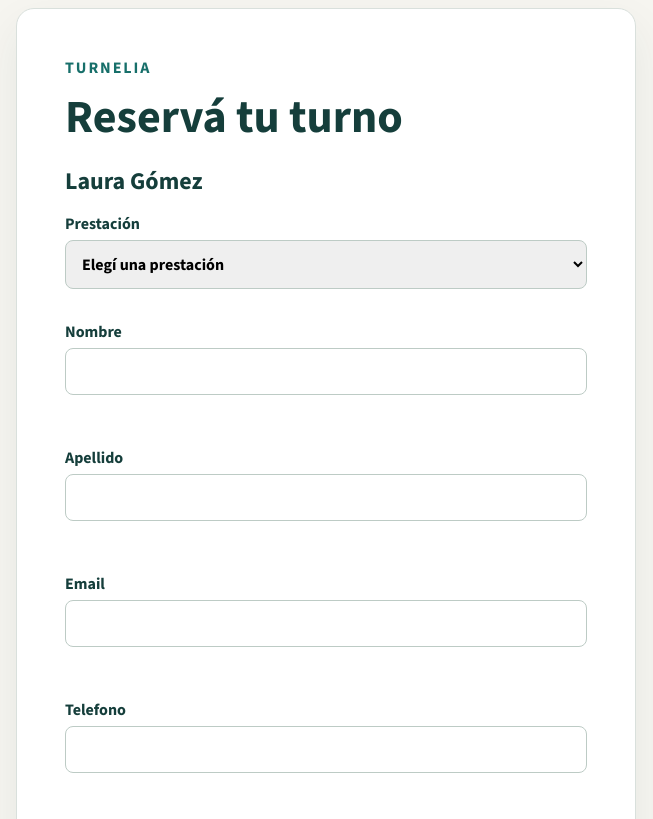
Scenario: PublicBooking › carga perfil/prestación, consulta disponibilidad y confirma sin persistir token
This screenshot has width=653, height=819.
Expected: the heading "Laura Gómez" is shown, [65, 165, 203, 197]
Select "Consulta · 30 min · presencial" in the dropdown labelled "Prestación". click: (326, 264)
box: [65, 240, 587, 289]
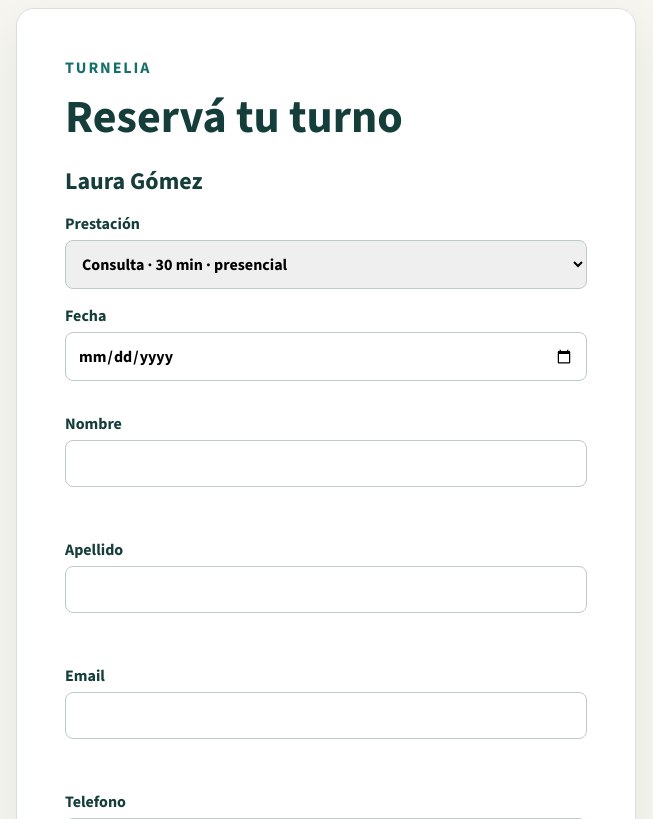
Type "2026-09-15" into the date field labelled "Fecha". click: (326, 356)
box: [65, 332, 587, 381]
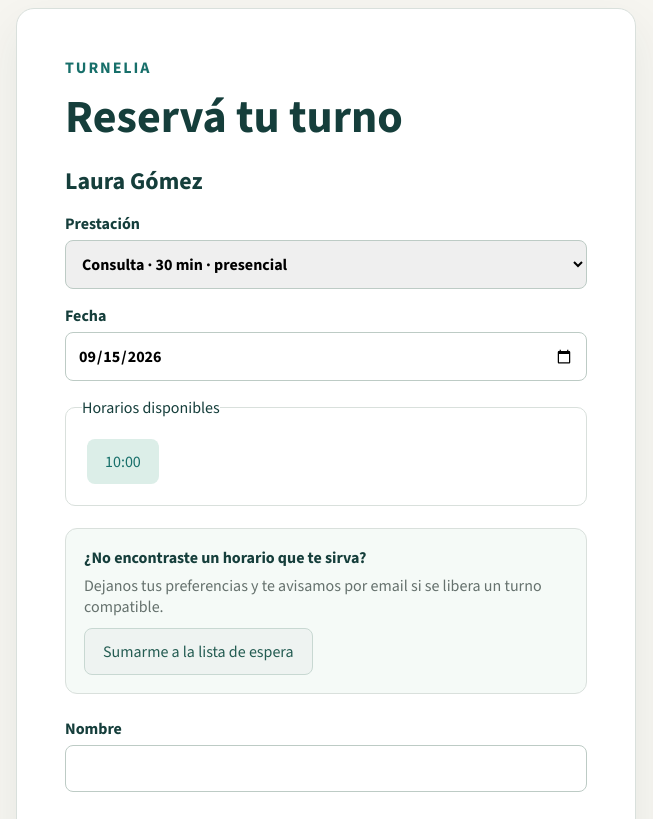
Now the button "10:00" is shown
Click the button "10:00". click: (123, 462)
box: [87, 439, 159, 484]
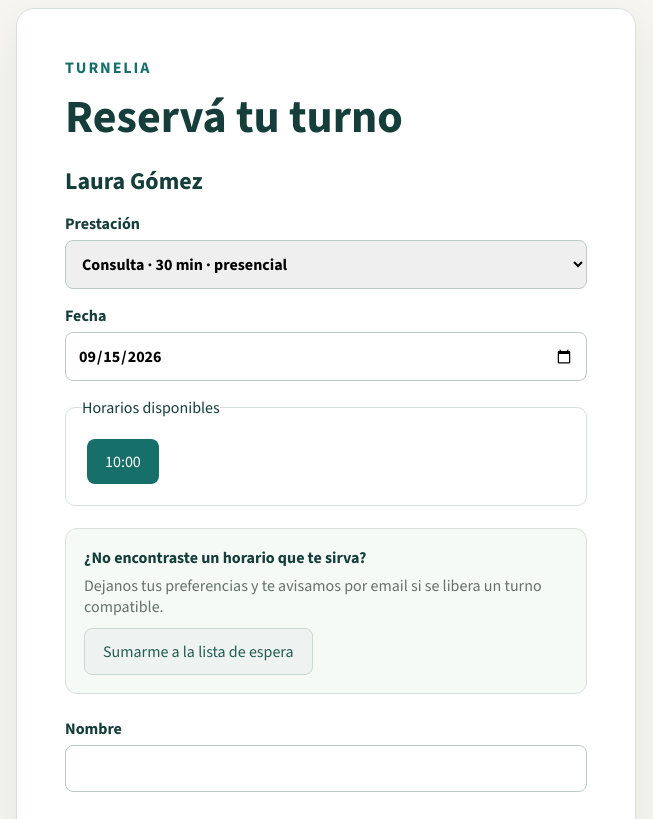
Type "Ana" into the field labelled "Nombre". click: (326, 768)
box: [65, 745, 587, 792]
(page scrolled)
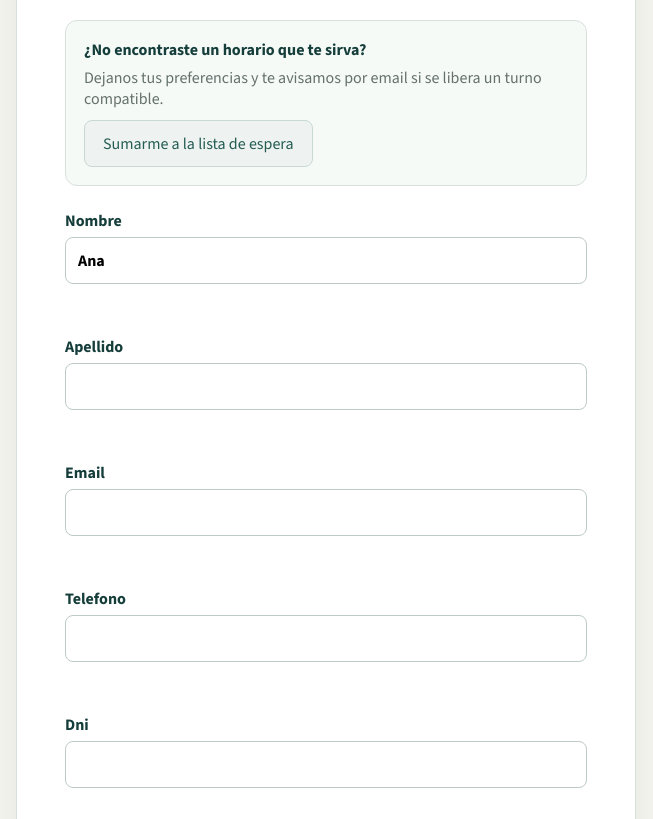
Type "Pérez" into the field labelled "Apellido". click: (326, 386)
box: [65, 363, 587, 410]
Type "ana@example.com" into the field labelled "Email". click: (326, 512)
box: [65, 489, 587, 536]
(page scrolled)
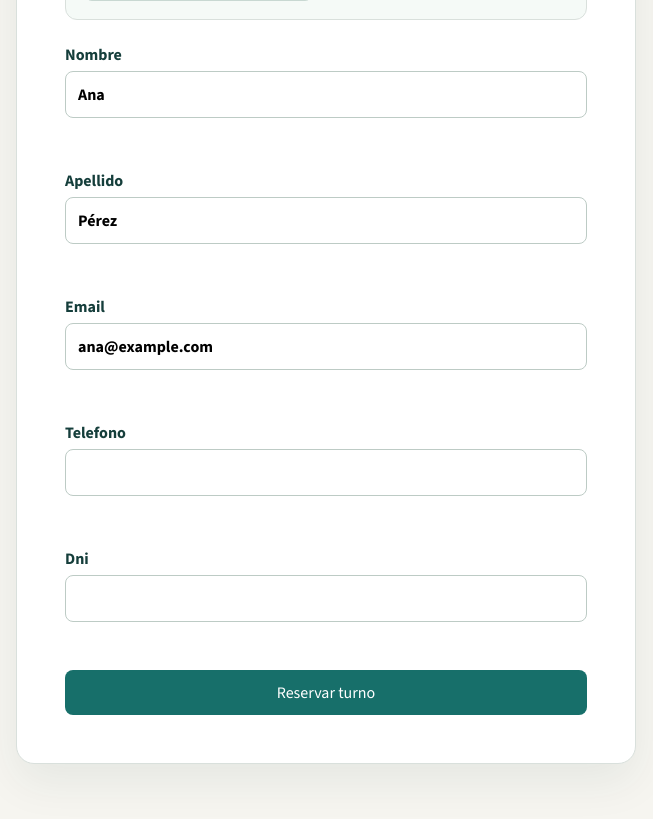
Click the button "Reservar turno". click: (326, 692)
box: [65, 670, 587, 715]
(page scrolled)
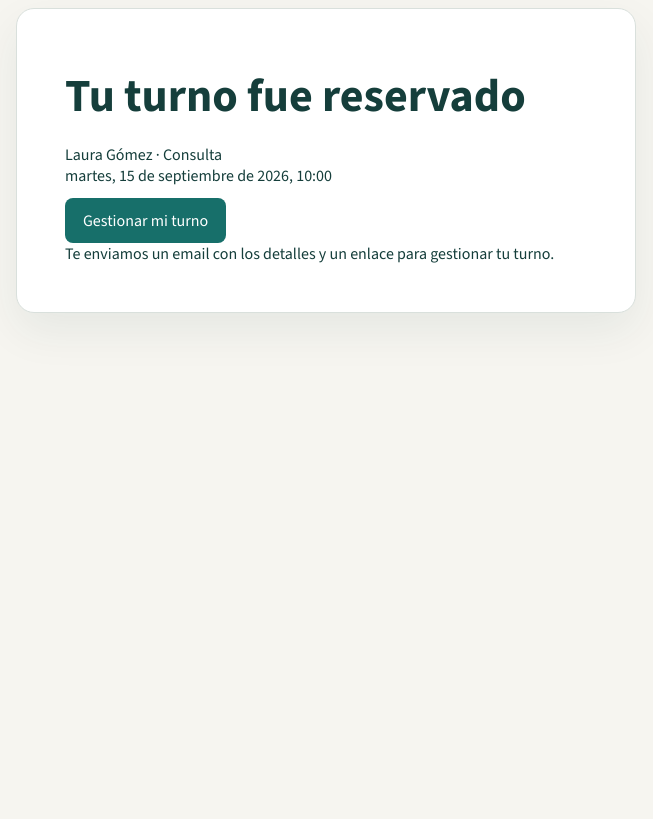
Now the heading "Tu turno fue reservado" is shown, box [65, 65, 587, 126]
